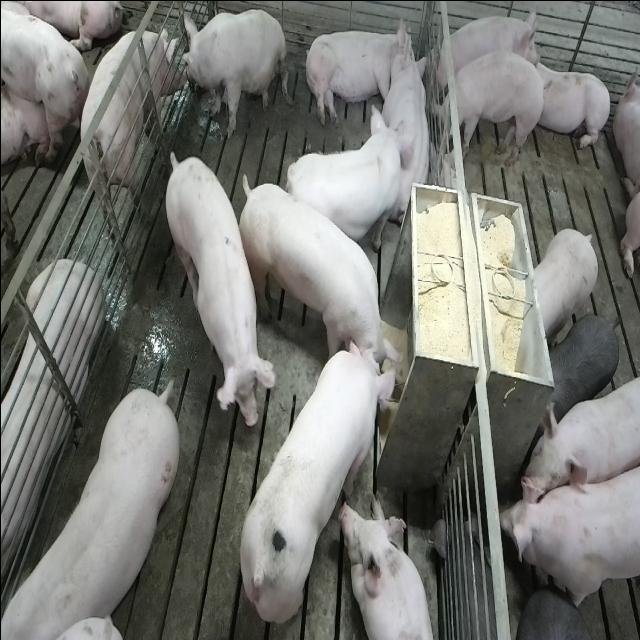Feeding: (236, 333, 400, 624), (232, 169, 400, 381)
Lateral_lying: (302, 13, 417, 128)
Sitting: (178, 7, 286, 138)
Standing: (5, 376, 184, 636), (161, 145, 271, 431), (498, 449, 638, 617), (80, 26, 182, 236), (522, 366, 638, 505), (432, 51, 547, 172), (0, 0, 83, 156), (546, 310, 618, 426), (530, 227, 598, 344), (517, 586, 601, 638)
Sternal_lying: (0, 259, 100, 596), (342, 494, 438, 640), (381, 48, 433, 225), (528, 49, 612, 152)
